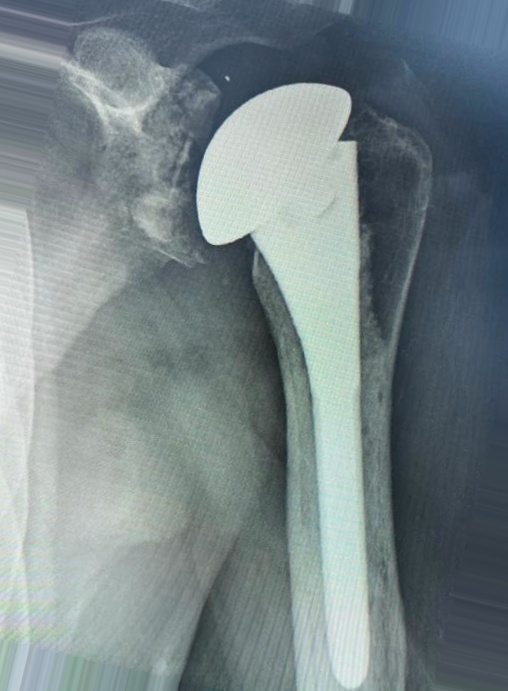Shoulder - Anotomical - Stryker: (183, 76, 378, 249)
